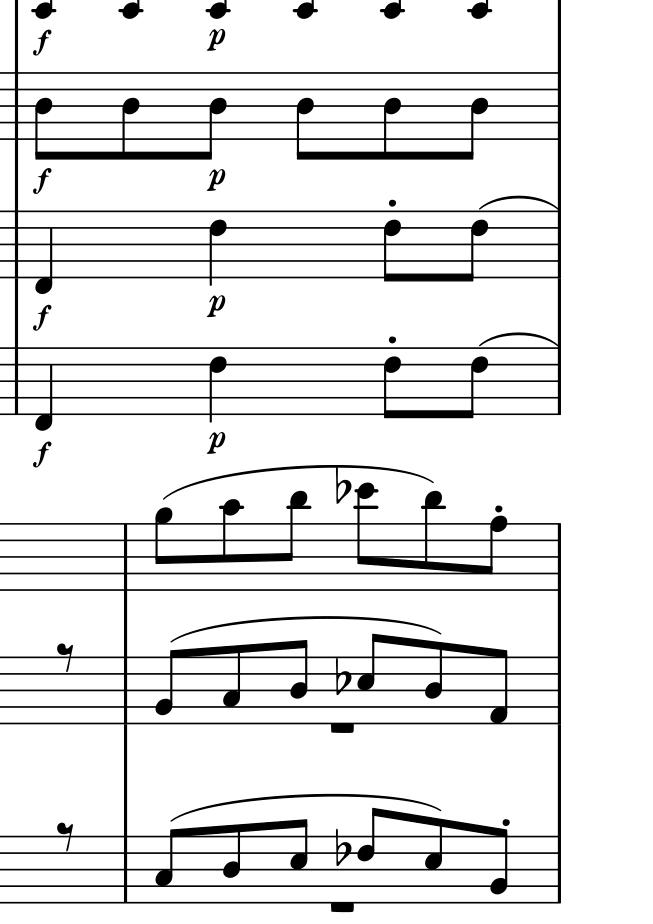4_-1: (32, 343, 55, 432), (35, 208, 54, 295)
4_6: (208, 208, 230, 287), (208, 345, 227, 422)
8_1: (484, 647, 509, 727)
8_10: (221, 498, 243, 593)
8_11: (275, 490, 311, 594), (422, 490, 444, 594)
8_12: (354, 481, 381, 594)
8_2: (153, 648, 183, 726), (486, 825, 509, 908)
8_3: (152, 826, 187, 905), (219, 643, 243, 727)
8_4: (458, 70, 490, 164), (202, 71, 228, 161), (420, 640, 444, 726), (288, 638, 310, 727), (381, 70, 402, 163), (121, 70, 142, 162), (220, 823, 243, 906), (295, 71, 314, 164), (35, 69, 54, 161)
8_5: (356, 632, 384, 727), (423, 817, 446, 906), (288, 817, 308, 904)
8_6: (357, 806, 386, 906), (457, 209, 488, 283), (463, 345, 489, 423), (382, 208, 403, 285), (382, 344, 402, 422)
8_8: (479, 514, 508, 594)
8_9: (153, 505, 173, 594)
Flat: (332, 653, 354, 696), (333, 824, 352, 867), (334, 466, 350, 504)
Rests1: (325, 898, 358, 917), (327, 718, 358, 738)
Rests8: (55, 640, 77, 676), (56, 818, 78, 851)
Single_barline: (6, 346, 29, 414), (546, 347, 569, 415), (8, 209, 27, 279), (549, 659, 567, 728), (116, 656, 134, 724), (549, 73, 567, 140), (549, 836, 566, 906), (548, 211, 566, 277), (117, 836, 134, 903), (550, 524, 567, 589), (9, 74, 25, 140), (118, 524, 133, 590)
Slur: (160, 466, 435, 502), (165, 792, 441, 824), (170, 615, 442, 644), (476, 331, 560, 346), (477, 195, 560, 209)
f: (32, 440, 55, 471), (33, 167, 54, 194), (32, 304, 53, 331), (33, 30, 53, 55)
p: (207, 430, 232, 457), (205, 165, 228, 191), (206, 292, 228, 316), (208, 29, 226, 52)
